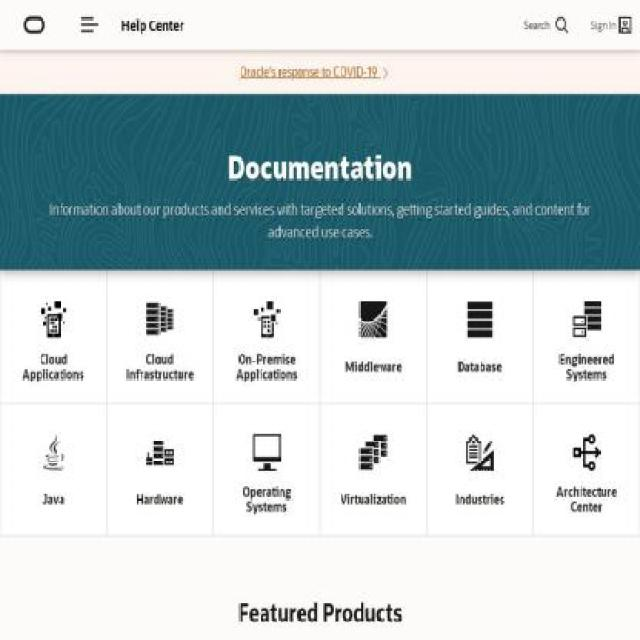button: (9, 270, 97, 402), (116, 270, 204, 402), (223, 270, 311, 402), (329, 270, 417, 402), (436, 270, 524, 402), (543, 270, 631, 402), (9, 403, 97, 535), (116, 403, 204, 535), (223, 403, 311, 535), (329, 403, 417, 535), (436, 403, 524, 535), (543, 403, 631, 535), (581, 0, 639, 51), (66, 0, 112, 51)
field: (476, 7, 573, 42)
